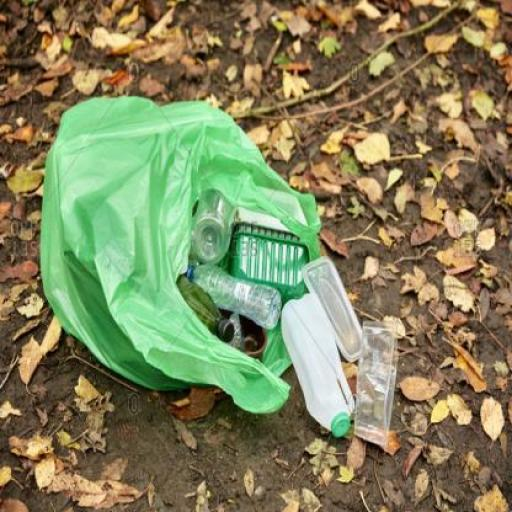plastic bag: (37, 81, 321, 476)
